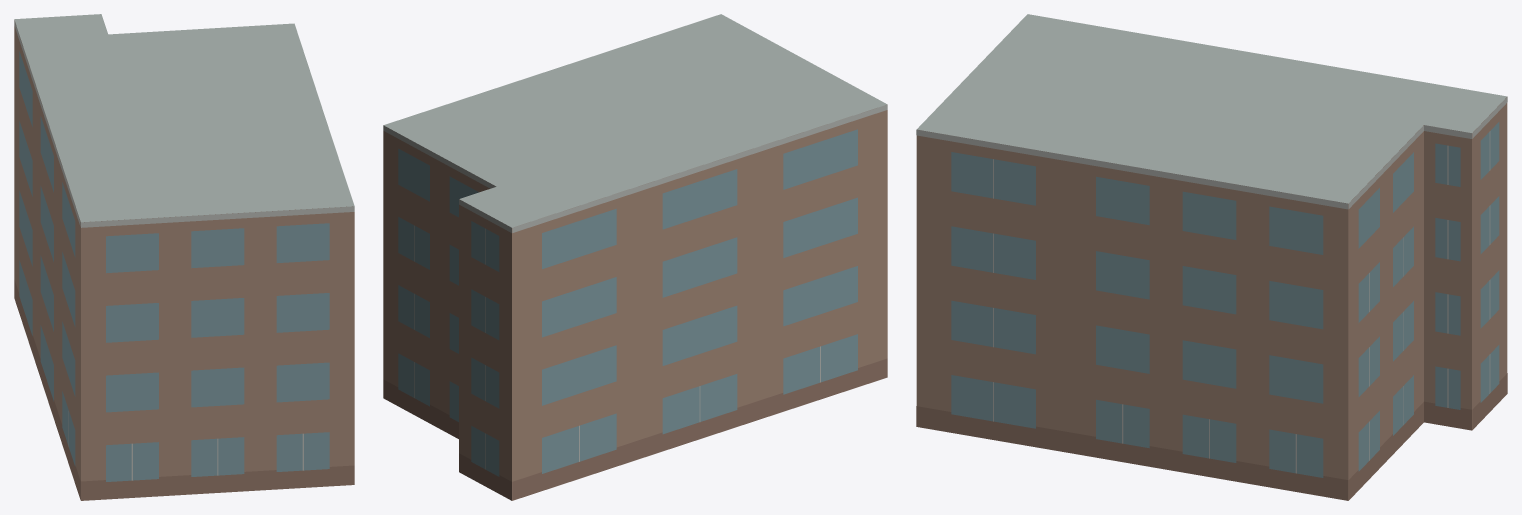
File: residential-aa6fbc52-f3be-4fe8-8410-44c2403946db.glb
3 views of the same model, side by side, from view 1: azimuth 30°, elevation 25°; view 2: azimuth 150°, elevation 25°; view 3: azimuth 270°, elevation 25° (orthographic). The views are drawn at different scales.
Visible parts, largest first — view 1: residential-aa6fbc52-f3be-4fe8-8410-44c2403946db.tmp; view 2: residential-aa6fbc52-f3be-4fe8-8410-44c2403946db.tmp; view 3: residential-aa6fbc52-f3be-4fe8-8410-44c2403946db.tmp.
Boxes of the visible parts, x1,y1,x2,y2 form: residential-aa6fbc52-f3be-4fe8-8410-44c2403946db.tmp: (14, 14, 354, 500); residential-aa6fbc52-f3be-4fe8-8410-44c2403946db.tmp: (383, 14, 887, 500); residential-aa6fbc52-f3be-4fe8-8410-44c2403946db.tmp: (916, 14, 1507, 500).
Size of the model in its own units: 16.69 by 12.2 by 21.99.
